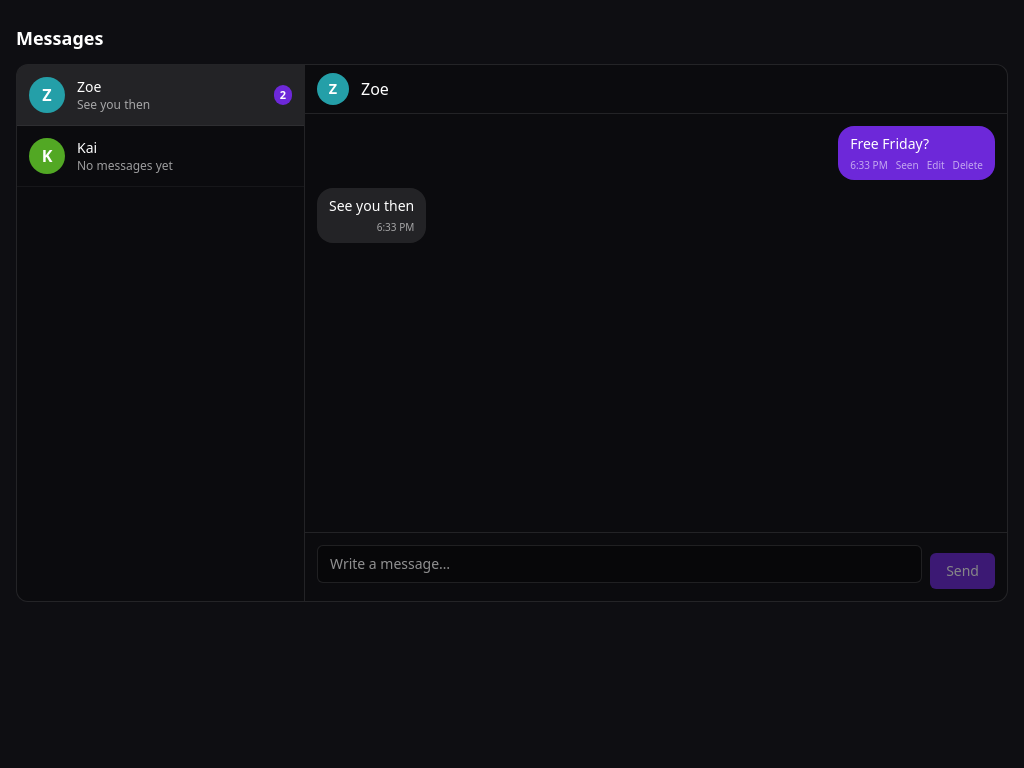
Test: MessagesPage › sends a trimmed message, appends it and clears the box
Type "  On my way  " into the text box labelled "message" at (620, 564), box [317,545,922,583]
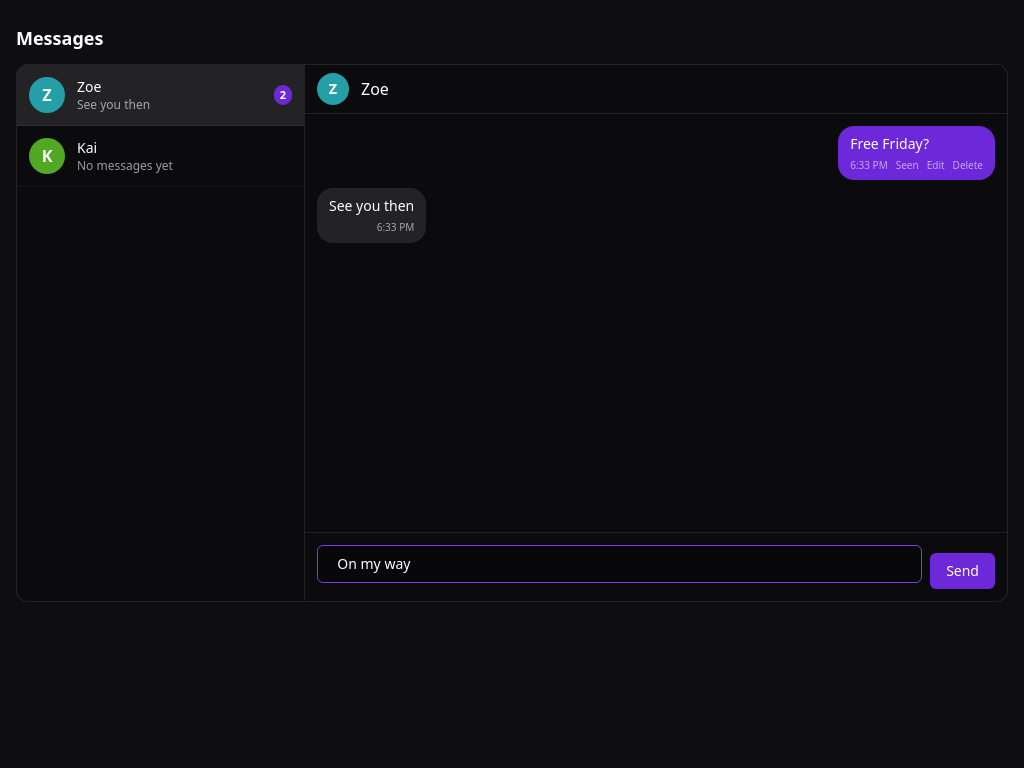
Click the button "Send" at (963, 571), box [930,553,995,589]
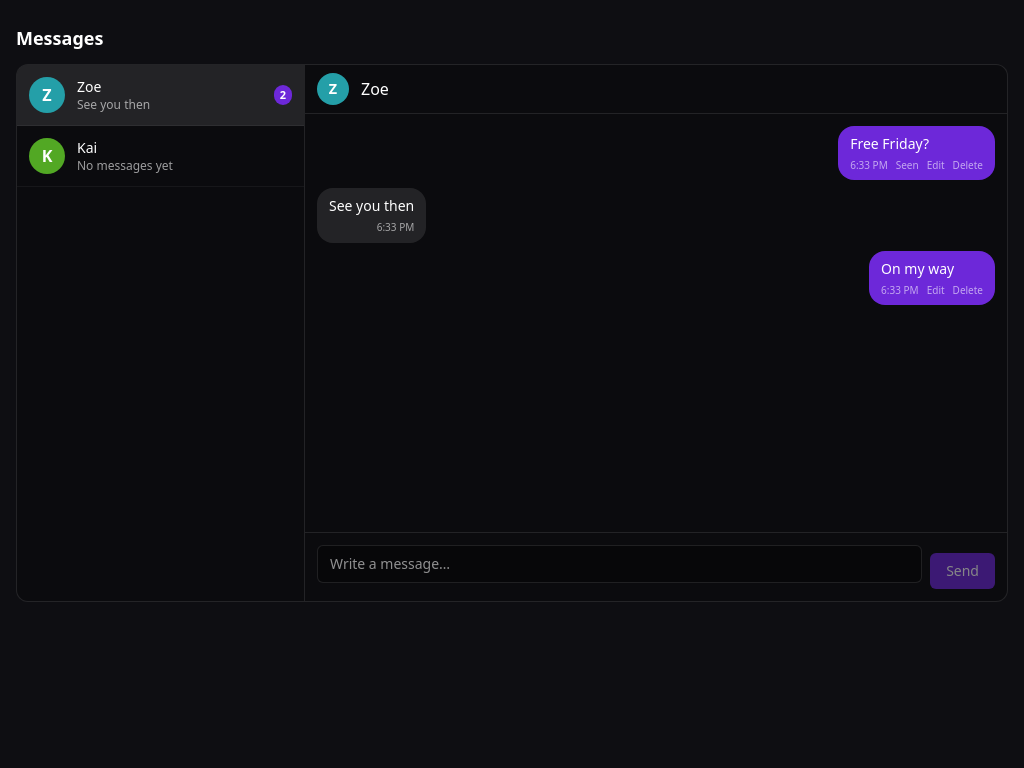
Check: the text "On my way" is shown, box [881,259,954,278]
Check: the text box labelled "message" is empty, box [317,545,922,583]
